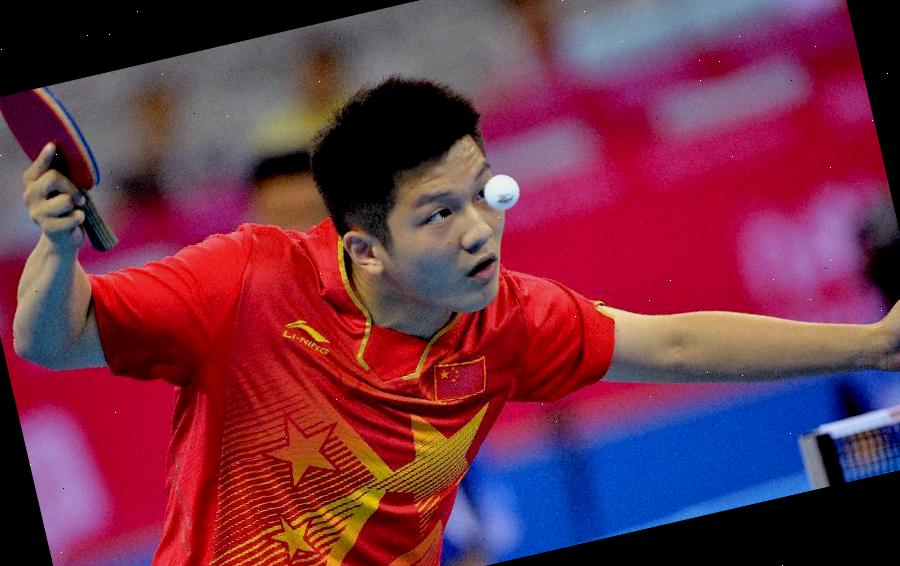ball: (476, 166, 527, 216)
